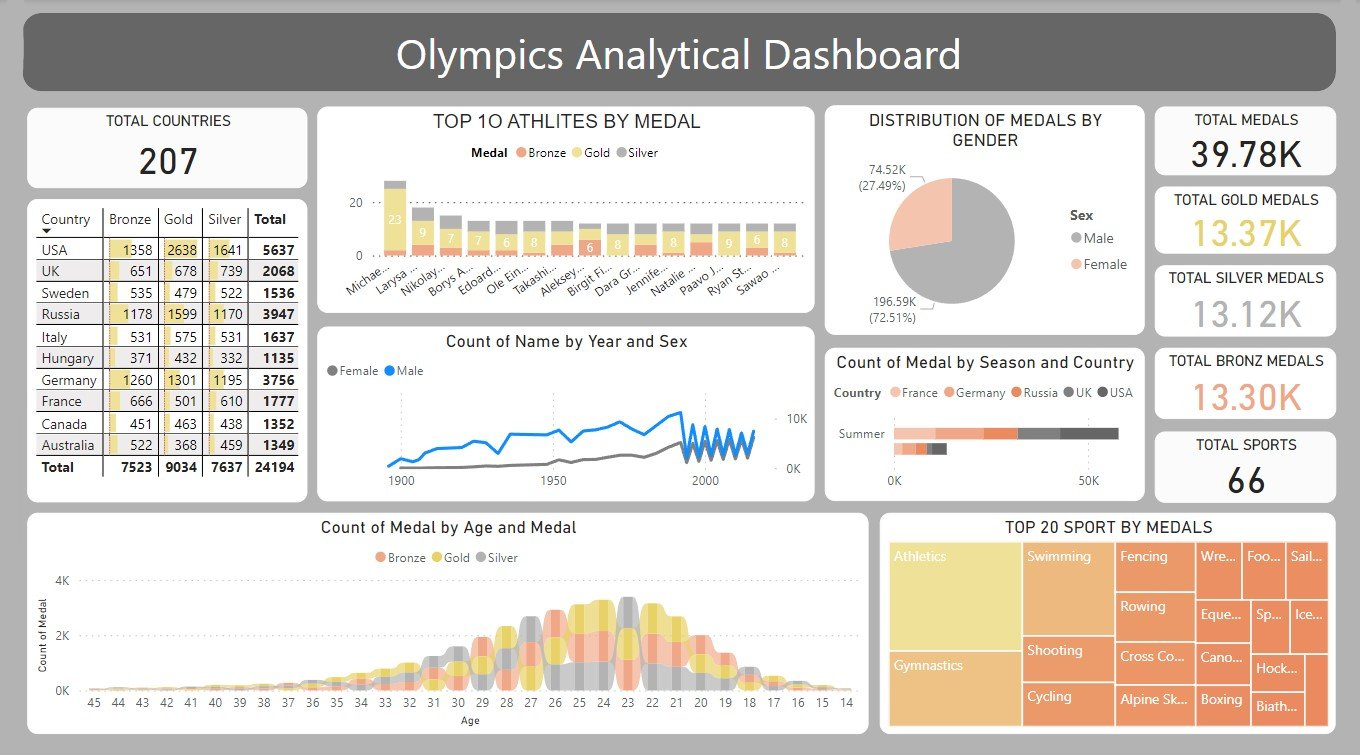

This screenshot's page, from the dashboard's own definition file:
{"tool":"powerbi","page":{"name":"Page 3","canvas":[1280,720],"ordinal":2},"visuals":[{"type":"pieChart","title":"DISTRIBUTION OF MEDALS BY GENDER","fields":{"Category":["Olympics Final.Sex"],"Y":["CountNonNull(Olympics Final.Medal)"]},"box":[775.7,102.5,308.8,222],"z":0},{"type":"card","title":"TOTAL MEDALS","fields":{"Values":["CountNonNull(Olympics Final.Medal)"]},"box":[1094.2,103.8,174.9,66.1],"z":0,"group":"g1"},{"type":"pivotTable","fields":{"Rows":["Olympics Final.Country"],"Columns":["Olympics Final.Medal"],"Values":["CountNonNull(Olympics Final.Medal)"]},"box":[6,193,270.2,293.2],"z":1000},{"type":"card","title":"TOTAL BRONZ MEDALS","fields":{"Values":["CountNonNull(Olympics Final.Medal)"]},"box":[1094.2,336.5,174.9,68.9],"z":1000,"group":"g1"},{"type":"columnChart","title":"TOP 1O ATHLITES BY MEDAL","fields":{"Category":["Olympics Final.Name"],"Y":["CountNonNull(Olympics Final.Medal)"],"Series":["Olympics Final.Medal"]},"box":[285.9,103.8,480.2,199.1],"z":2000},{"type":"card","title":"TOTAL SILVER MEDALS","fields":{"Values":["CountNonNull(Olympics Final.Medal)"]},"box":[1094.2,256.7,174.9,68.9],"z":2000,"group":"g1"},{"type":"card","title":"TOTAL GOLD MEDALS","fields":{"Values":["CountNonNull(Olympics Final.Medal)"]},"box":[1094.2,180.9,174.9,64.7],"z":3000,"group":"g1"},{"type":"treemap","title":"TOP 20 SPORT BY MEDALS","fields":{"Group":["Olympics Final.Sport"],"Values":["CountNonNull(Olympics Final.Medal)"]},"box":[828.8,495.8,440.4,213.5],"z":3000},{"type":"barChart","fields":{"Category":["Olympics Final.Season"],"Y":["CountNonNull(Olympics Final.Medal)"],"Series":["Olympics Final.Country"]},"box":[775.7,336.6,308.8,148.4],"z":4000},{"type":"ribbonChart","fields":{"Category":["Olympics Final.Age"],"Y":["CountNonNull(Olympics Final.Medal)"],"Series":["Olympics Final.Medal"]},"box":[6,495.8,811.9,213.5],"z":5000},{"type":"lineChart","fields":{"Category":["Olympics Final.Year"],"Y2":["CountNonNull(Olympics Final.Name)"],"Series":["Olympics Final.Sex"]},"box":[285.9,316.1,480.2,168.9],"z":6000},{"type":"card","title":"TOTAL COUNTRIES","fields":{"Values":["Count(Olympics Final.Country)"]},"box":[6,105,270.2,77.2],"z":7000},{"type":"card","title":"TOTAL SPORTS","fields":{"Values":["Count(Olympics Final.Sport)"]},"box":[1094.2,417.4,174.9,68.8],"z":8000},{"type":"shape","box":[1.2,13.3,1268,76],"z":9000},{"type":"group","id":"g1","title":"Group 1","box":[1094.2,103.8,174.9,301.6],"z":10000}]}

Visuals, with their boxes in screenshot pixels (x1, y1, x2, y2), scaled from the page's 1280x720 canvas onto the 1360x755 screenshot:
"DISTRIBUTION OF MEDALS BY GENDER" pieChart: Rect(824, 107, 1152, 340)
"TOTAL MEDALS" card: Rect(1163, 109, 1348, 178)
pivotTable - Olympics Final.Country x Olympics Final.Medal: Rect(6, 202, 293, 510)
"TOTAL BRONZ MEDALS" card: Rect(1163, 353, 1348, 425)
"TOP 1O ATHLITES BY MEDAL" columnChart: Rect(304, 109, 814, 318)
"TOTAL SILVER MEDALS" card: Rect(1163, 269, 1348, 341)
"TOTAL GOLD MEDALS" card: Rect(1163, 190, 1348, 258)
"TOP 20 SPORT BY MEDALS" treemap: Rect(881, 520, 1349, 744)
barChart - Olympics Final.Season x CountNonNull(Olympics Final.Medal): Rect(824, 353, 1152, 509)
ribbonChart - Olympics Final.Age x CountNonNull(Olympics Final.Medal): Rect(6, 520, 869, 744)
lineChart - Olympics Final.Year x CountNonNull(Olympics Final.Name): Rect(304, 331, 814, 509)
"TOTAL COUNTRIES" card: Rect(6, 110, 293, 191)
"TOTAL SPORTS" card: Rect(1163, 438, 1348, 510)
shape: Rect(1, 14, 1349, 94)
"Group 1" group: Rect(1163, 109, 1348, 425)
